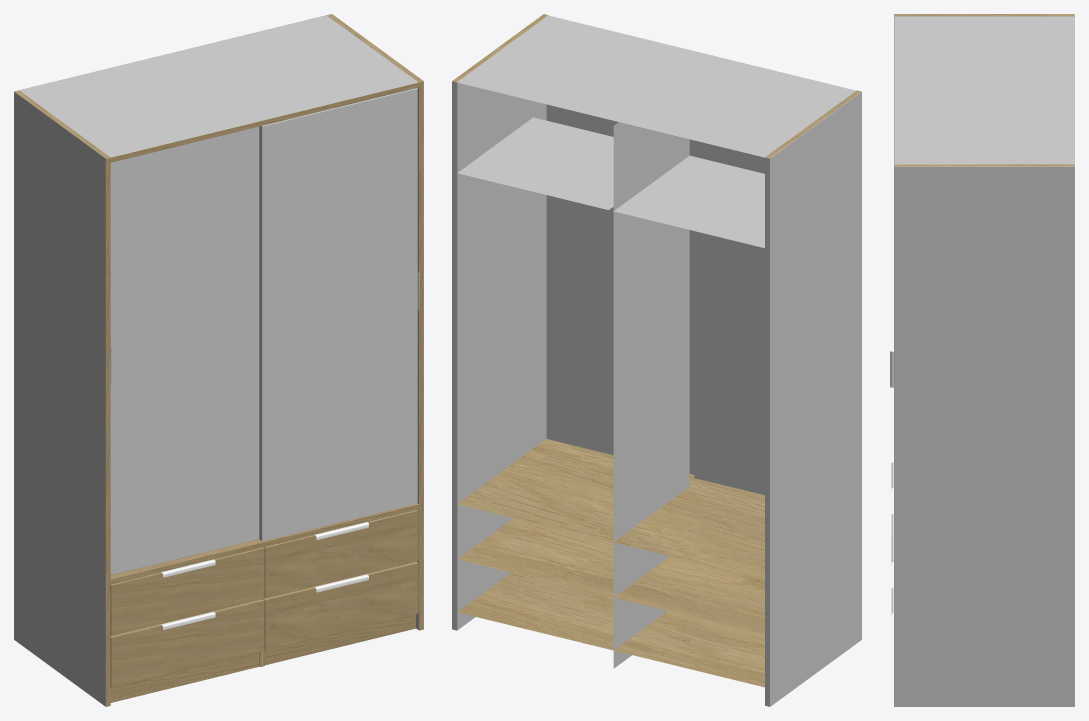
File: closet-transformed.glb
3 renders of one model, left to right at view 1: azimuth 30°, elevation 25°; view 2: azimuth 150°, elevation 25°; view 3: azimuth 270°, elevation 25°, orthographic.
Parts seen in each view (by area): view 1: frame, door01.001, door02.001, drawers.001; view 2: frame, door01.001, door02.001; view 3: frame, drawers.001.
Boxes of the visible parts, x1,y1,x2,y2 form: frame: (14,14,423,706); door01.001: (259,88,419,541); door02.001: (110,126,259,575); drawers.001: (110,509,418,688); frame: (452,14,861,706); door01.001: (546,104,694,474); door02.001: (694,140,764,494); frame: (894,14,1074,706); drawers.001: (891,462,893,616).
Size of the model in its own units: 1.22 by 2.01 by 0.6228.
Materials: 3 (1 with a texture image).
